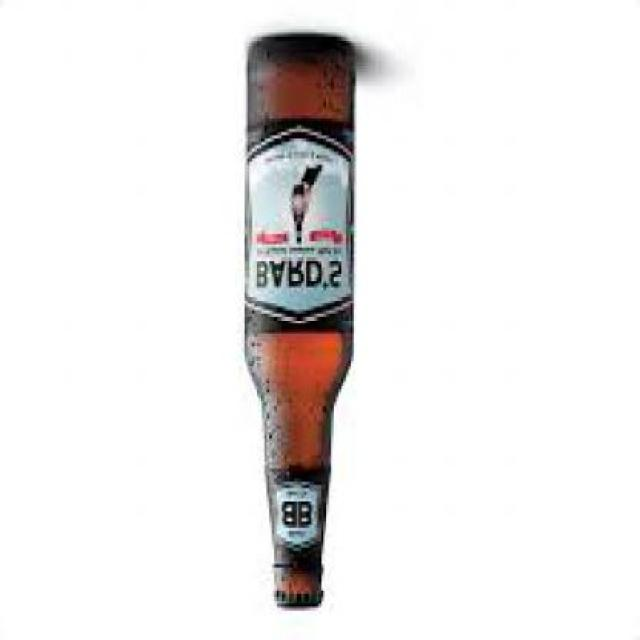GLASS: (242, 36, 353, 610)
METAL: (272, 598, 321, 613)
